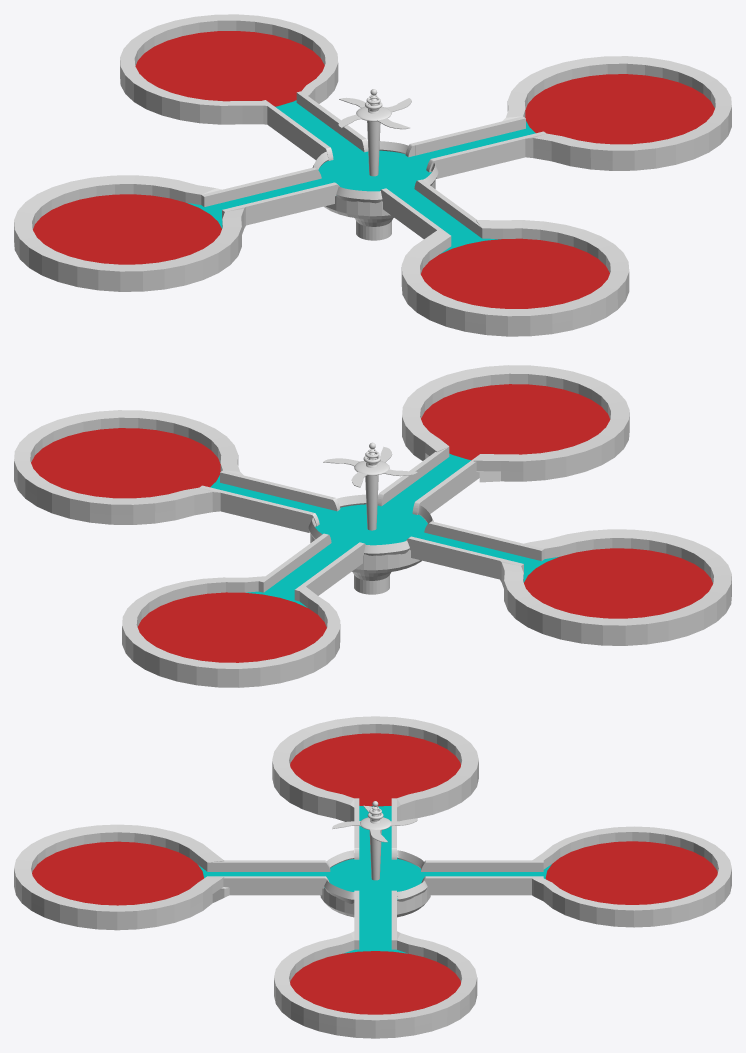
File: Warp Room.fbx
3 views of the same model, one above another, from view 1: azimuth 30°, elevation 25°; view 2: azimuth 150°, elevation 25°; view 3: azimuth 270°, elevation 25° (orthographic). The views are drawn at different scales.
Parts seen in each view (by area): view 1: Cylinder, Cylinder.001; view 2: Cylinder, Cylinder.001; view 3: Cylinder, Cylinder.001.
Part boxes in pixels (x1,y1,x2,y2): Cylinder: (14, 14, 731, 336); Cylinder.001: (338, 97, 411, 176); Cylinder: (14, 365, 731, 687); Cylinder.001: (323, 446, 417, 530); Cylinder: (14, 716, 731, 1038); Cylinder.001: (332, 805, 417, 880).
Size of the model in its own units: 6969 by 1393 by 6957.
